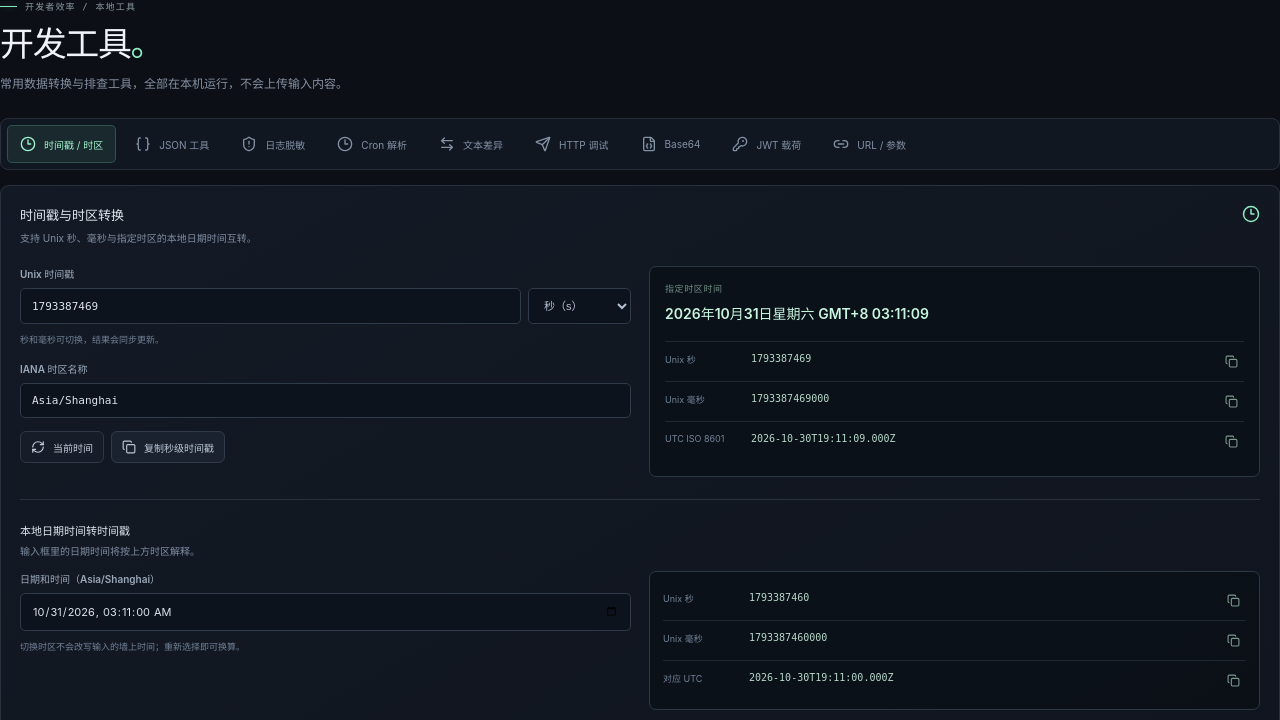
HTTP debugger panel › requires a URL before sending
Click the tab with class "toolkit-tab" showing "HTTP 调试": (572, 144) [522,125,622,163]
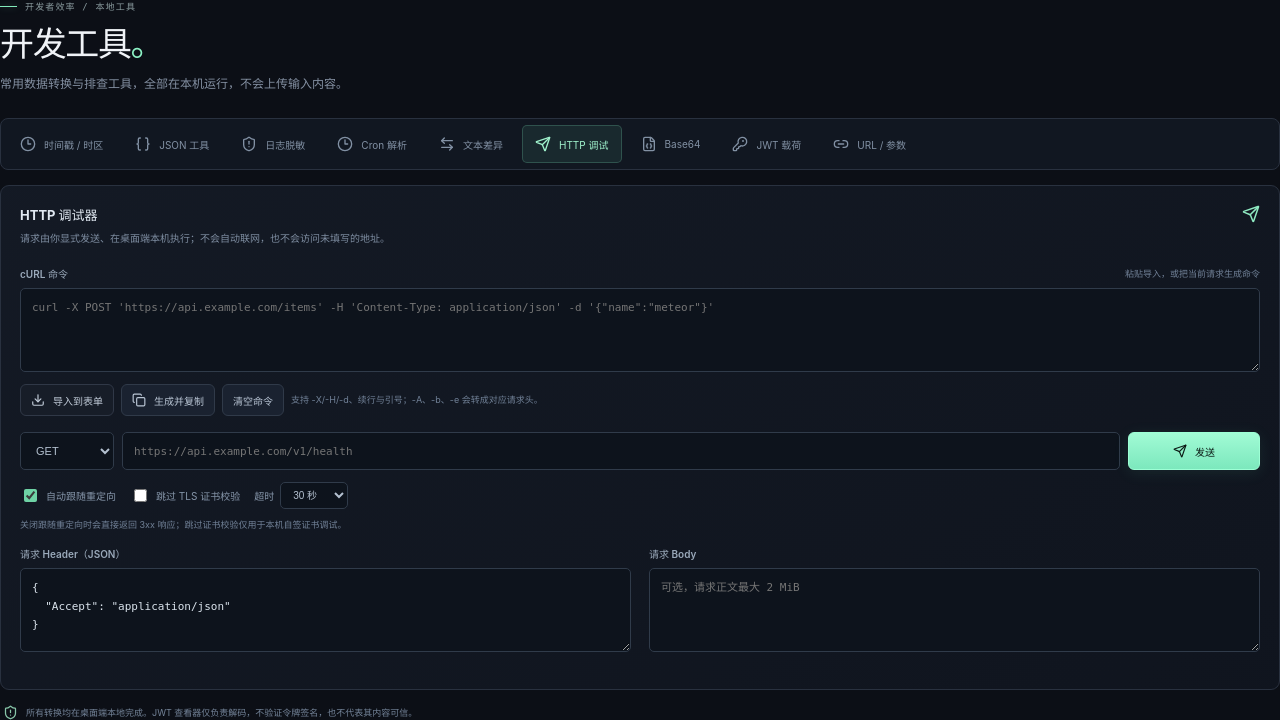
Click the button "发送": (1194, 451) [1128,432,1260,470]
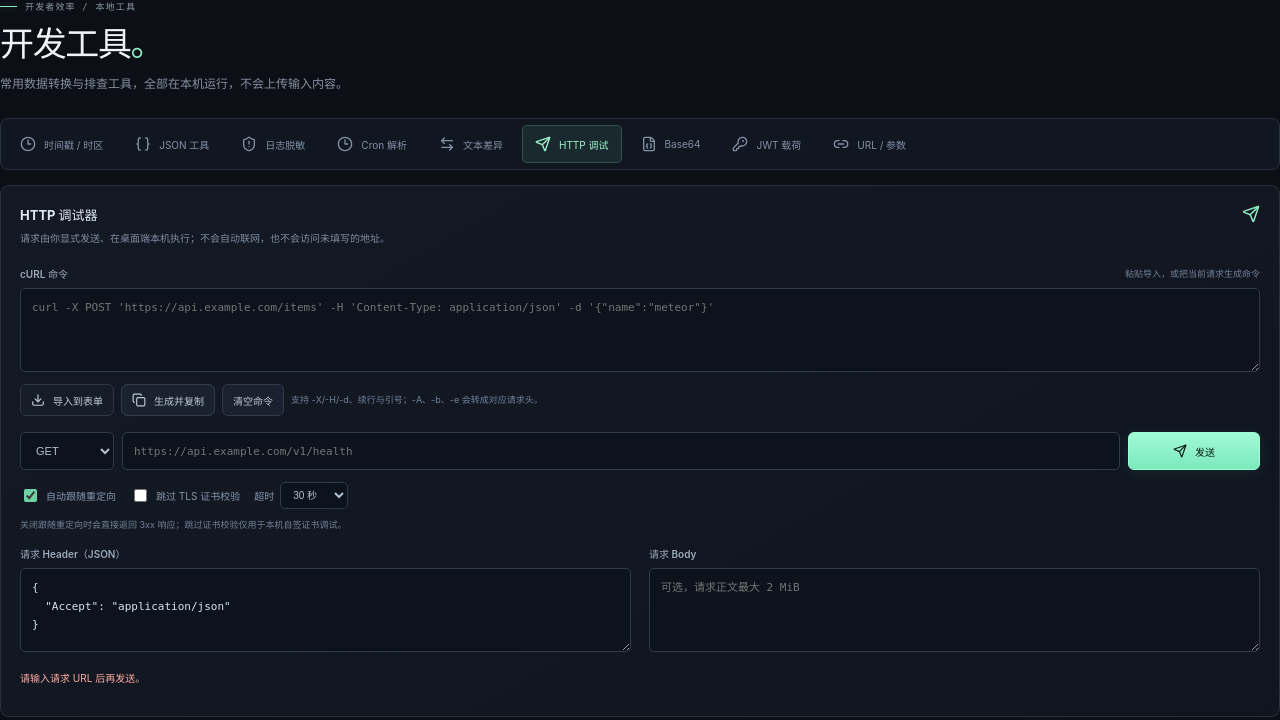
Expected: the text with class "toolkit-error" shows "请输入请求 URL", [20,672,145,684]
